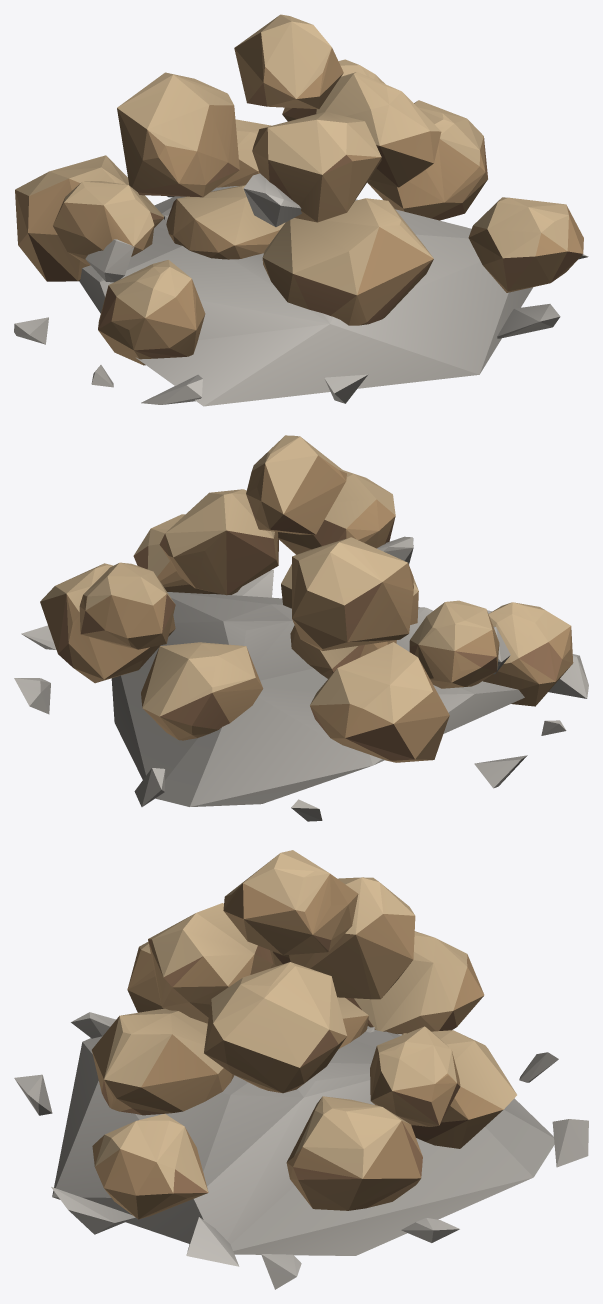
File: ore_pile.glb
3 renders of one model, top to bottom at view 1: azimuth 30°, elevation 25°; view 2: azimuth 150°, elevation 25°; view 3: azimuth 270°, elevation 25°, orthographic. The views are drawn at different scales.
Size of the model in its own units: 1.01 by 0.5601 by 0.9031.
